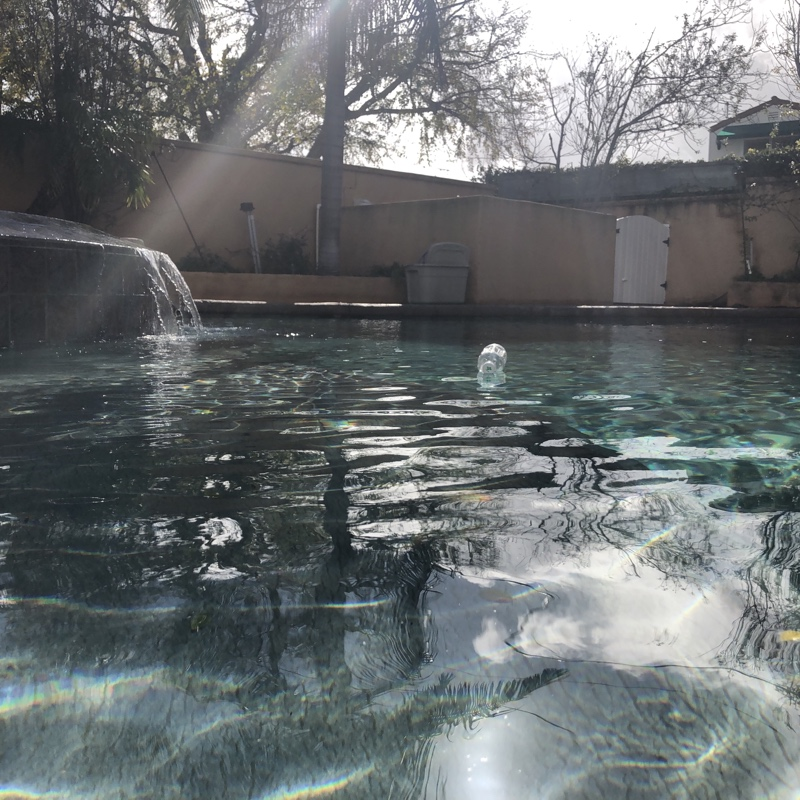Plastic Bottle: (474, 339, 508, 378)
